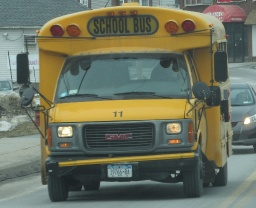bus: (32, 3, 235, 202)
